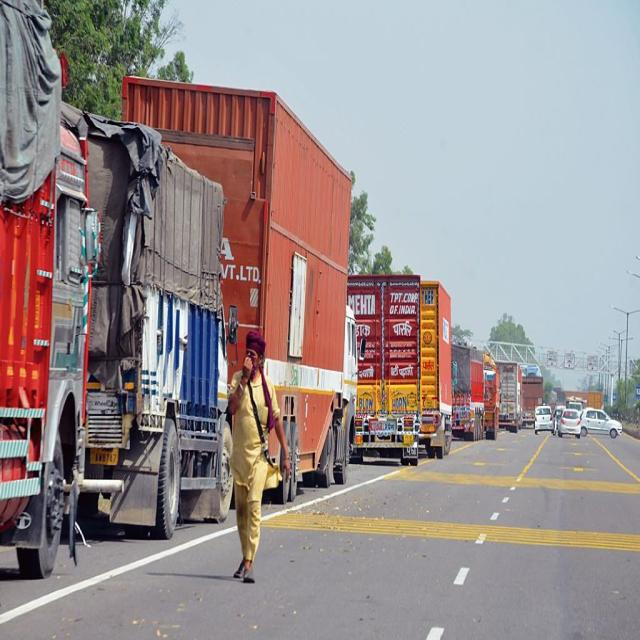car: (580, 408, 622, 438), (558, 408, 580, 438), (535, 406, 555, 434)
truck: (122, 77, 358, 483), (64, 111, 232, 538)
